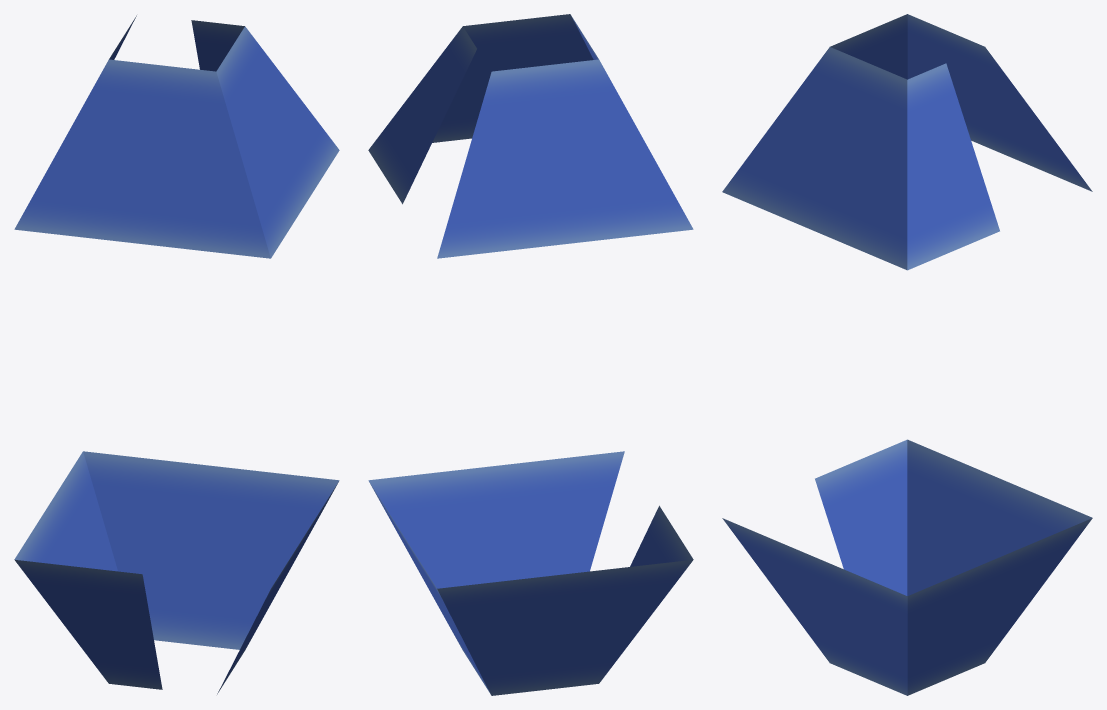
Rendered from geo_diamond_top_bottom.fbx.
3 renders of one model, left to right at view 1: azimuth 30°, elevation 25°; view 2: azimuth 150°, elevation 25°; view 3: azimuth 270°, elevation 25°, orthographic.
Visible parts, largest first — view 1: geo_diamond_top_bottom; view 2: geo_diamond_top_bottom; view 3: geo_diamond_top_bottom.
Part boxes in pixels (box(x1,y1,x2,y2)): geo_diamond_top_bottom: box(14, 15, 339, 694); geo_diamond_top_bottom: box(368, 14, 693, 695); geo_diamond_top_bottom: box(722, 14, 1092, 695).
Size of the model in its own units: 198 by 198 by 363.
1 material, 1 textured.
